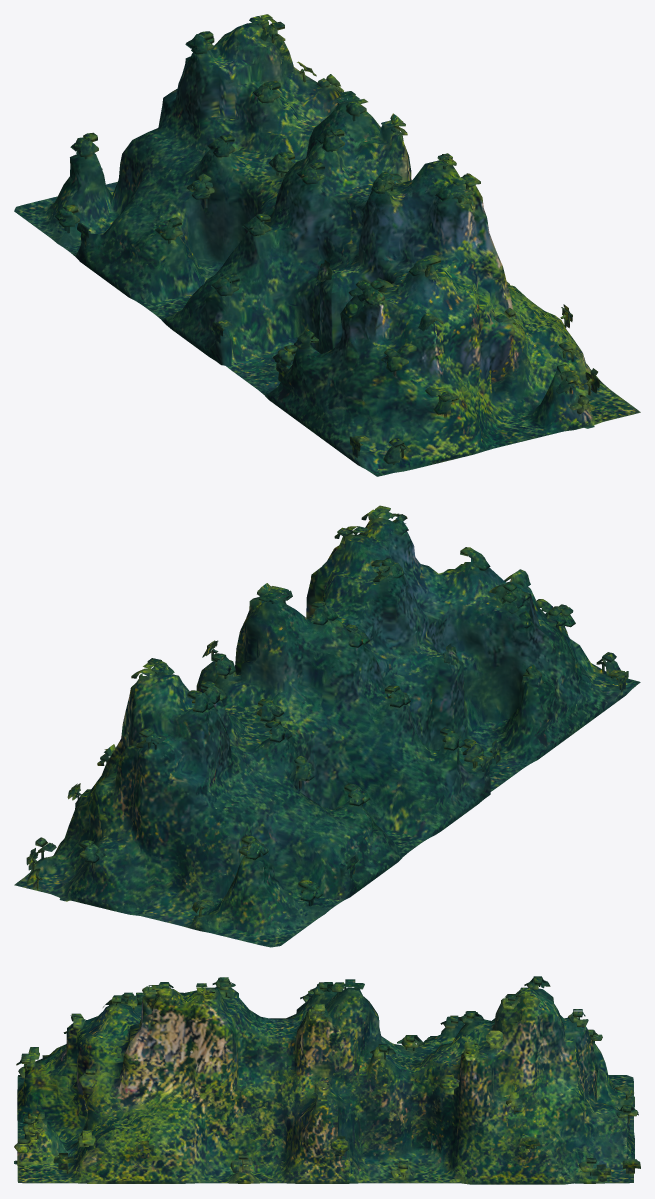
The model's file is mountain+terrain+3d+model.fbx.
3 views of the same model, one above another, from view 1: azimuth 30°, elevation 25°; view 2: azimuth 150°, elevation 25°; view 3: azimuth 270°, elevation 25° (orthographic). The views are drawn at different scales.
Visible parts, largest first — view 1: ce2113dd_3fd5_4a8b_bd29_d65fb2875fb6; view 2: ce2113dd_3fd5_4a8b_bd29_d65fb2875fb6; view 3: ce2113dd_3fd5_4a8b_bd29_d65fb2875fb6.
Part boxes in pixels (x1=…): ce2113dd_3fd5_4a8b_bd29_d65fb2875fb6: x1=14, y1=14, x2=640, y2=476; ce2113dd_3fd5_4a8b_bd29_d65fb2875fb6: x1=14, y1=505, x2=640, y2=947; ce2113dd_3fd5_4a8b_bd29_d65fb2875fb6: x1=14, y1=976, x2=640, y2=1184.
Bounding box in the file's own units: 0.4141 × 0.2842 × 0.9995.
